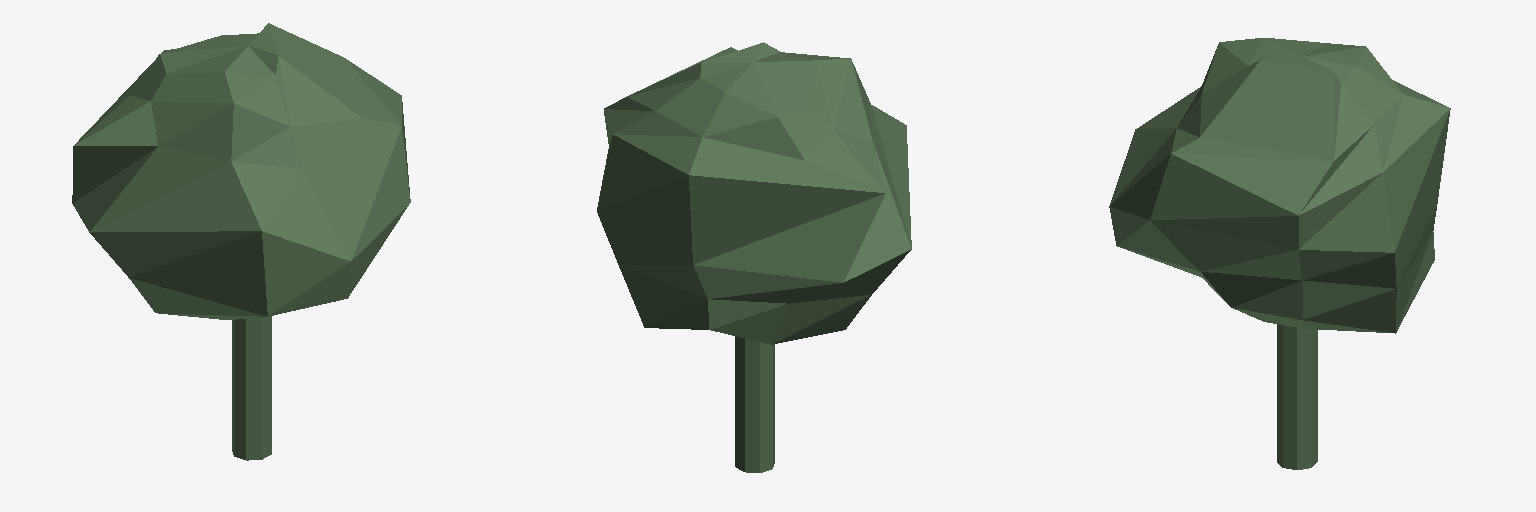
File: tree_placeholder.obj
3 views of the same model, side by side, from view 1: azimuth 30°, elevation 25°; view 2: azimuth 150°, elevation 25°; view 3: azimuth 270°, elevation 25° (orthographic).
Visible parts, largest first — view 1: tree_PH; view 2: tree_PH; view 3: tree_PH.
Boxes of the visible parts, <box> form: tree_PH: <box>72,23,410,460</box>; tree_PH: <box>597,42,911,472</box>; tree_PH: <box>1109,38,1450,469</box>.
Bounding box in the file's own units: 5.25 × 6.58 × 5.